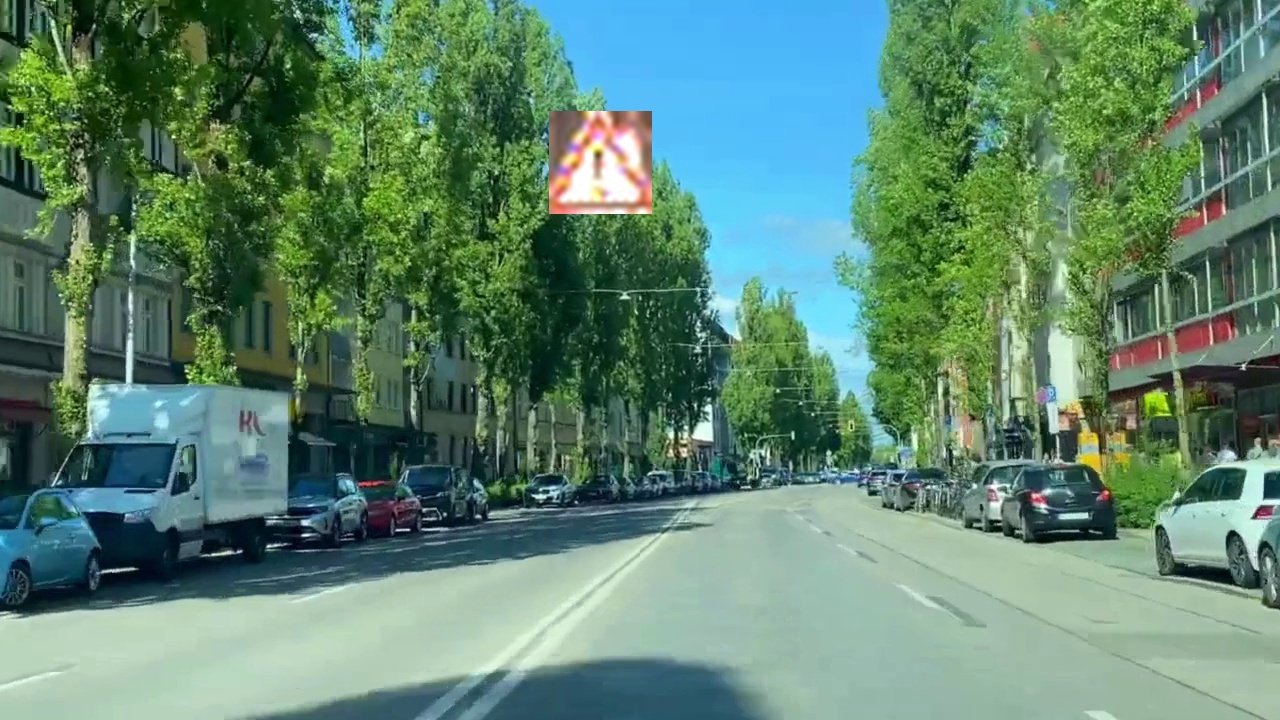Caution: (549, 111, 652, 214)
